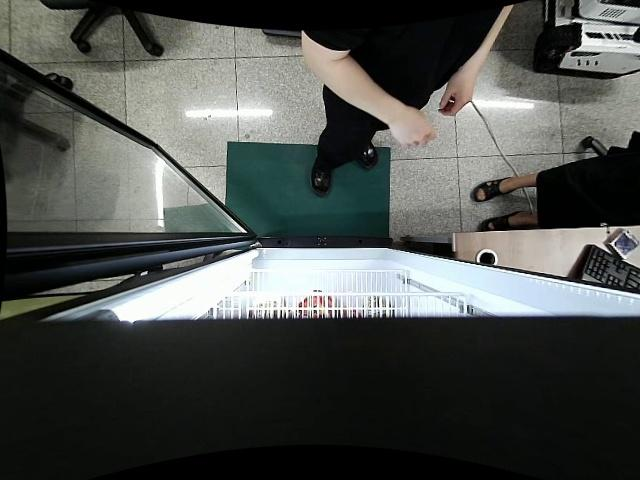00_hand: (387, 106, 437, 149), (439, 71, 476, 116)
